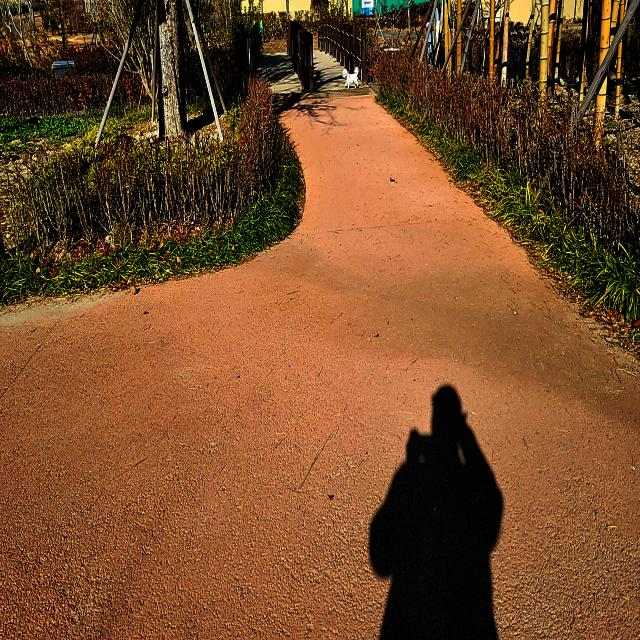Dog: (342, 66, 359, 91)
